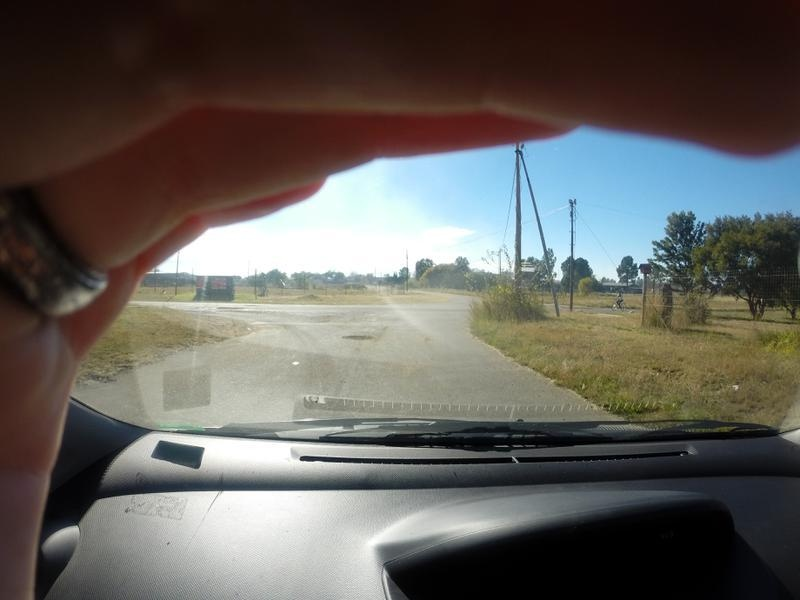pothole: (333, 328, 373, 347)
